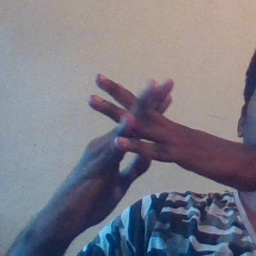W: (75, 61, 199, 201)
